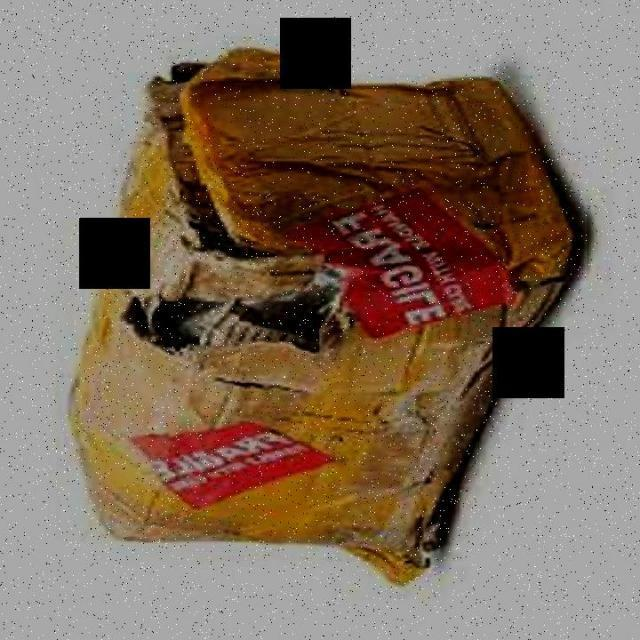box: (60, 48, 588, 590)
